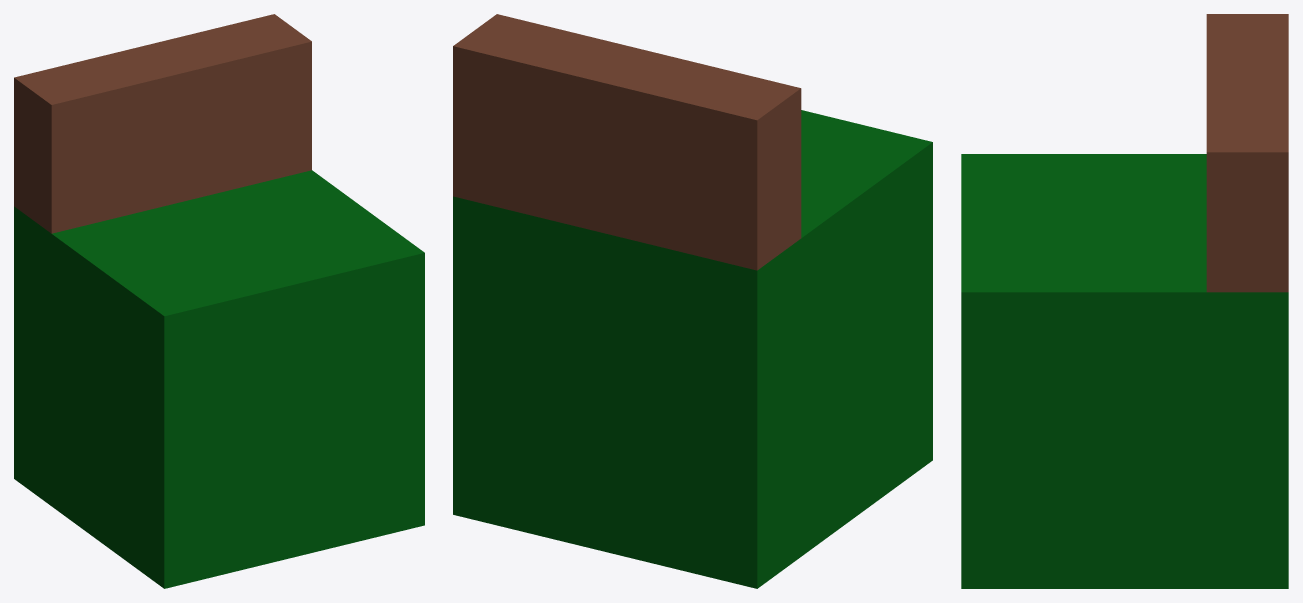
Rendered from Edge.fbx.
3 views of the same model, side by side, from view 1: azimuth 30°, elevation 25°; view 2: azimuth 150°, elevation 25°; view 3: azimuth 270°, elevation 25° (orthographic). The views are drawn at different scales.
Visible parts, largest first — view 1: Cube.004; view 2: Cube.004; view 3: Cube.004.
Boxes of the visible parts, box(x1,y1,x2,y2) form: Cube.004: box(14, 14, 424, 588); Cube.004: box(453, 14, 932, 588); Cube.004: box(961, 14, 1288, 588).
Size of the model in its own units: 200 by 294 by 200.
